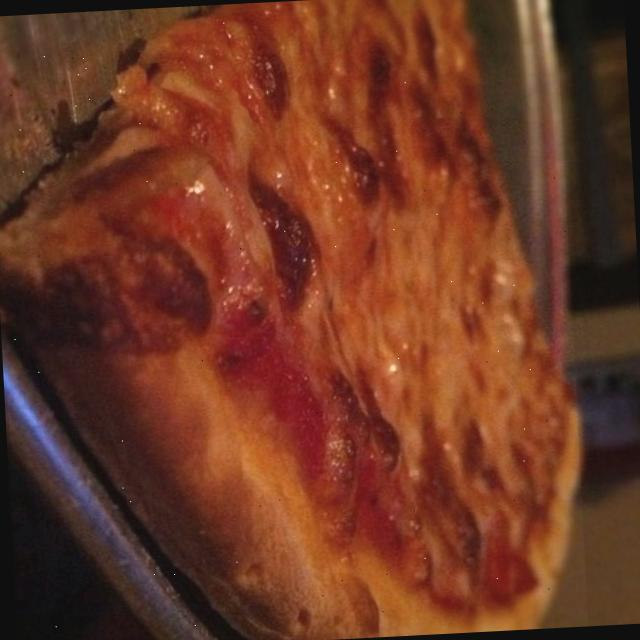pizza: (0, 0, 577, 640)
